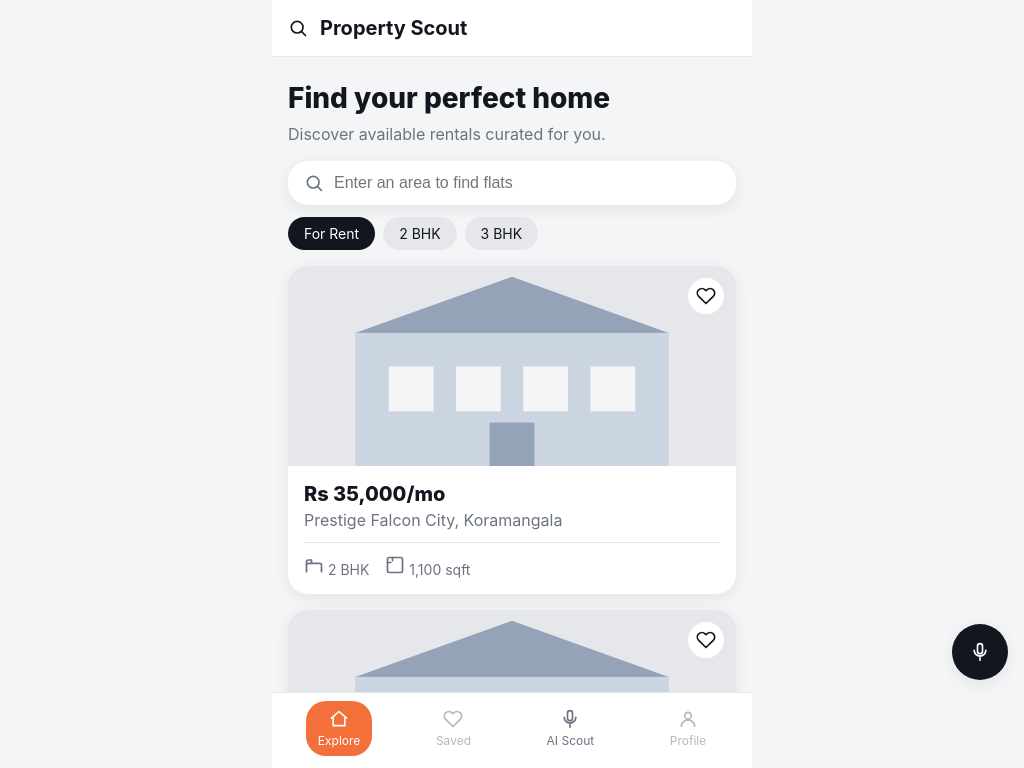
Home (companion UI shell) › opens the voice sheet from the floating mic button
Step 1. Click the button named "Open voice assistant" → coordinates (980, 652), box top-left (952, 624), bottom-right (1008, 680)
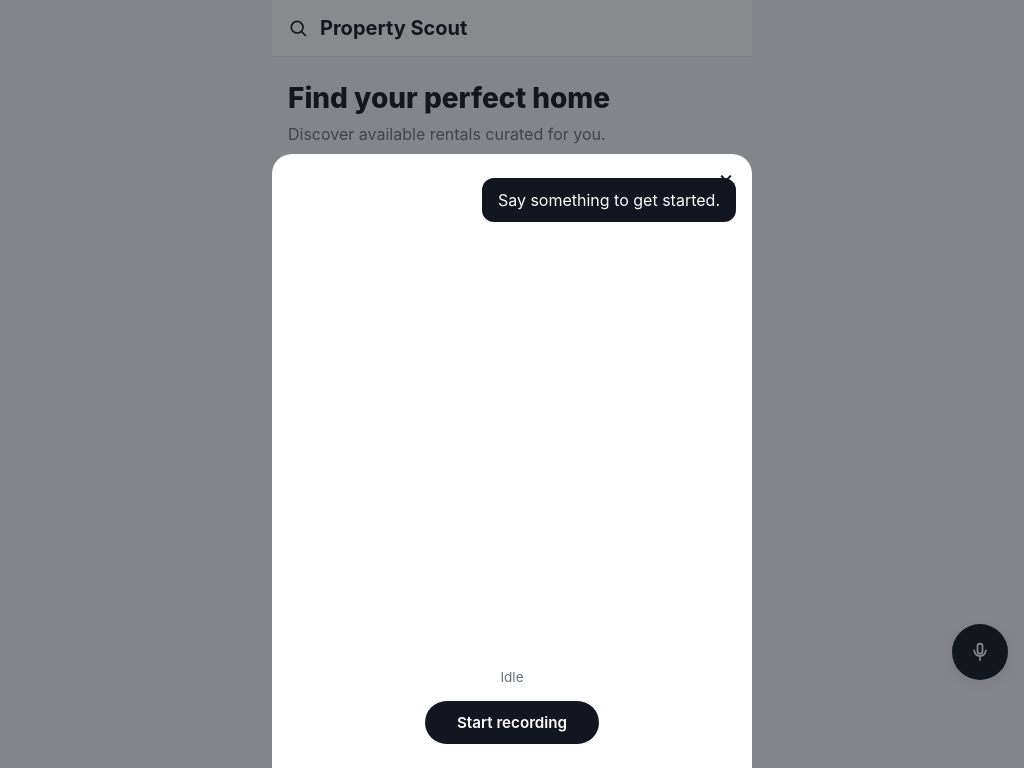
Expected: the dialog with test id "voice-sheet" is shown, top-left (272, 154), bottom-right (752, 767)
